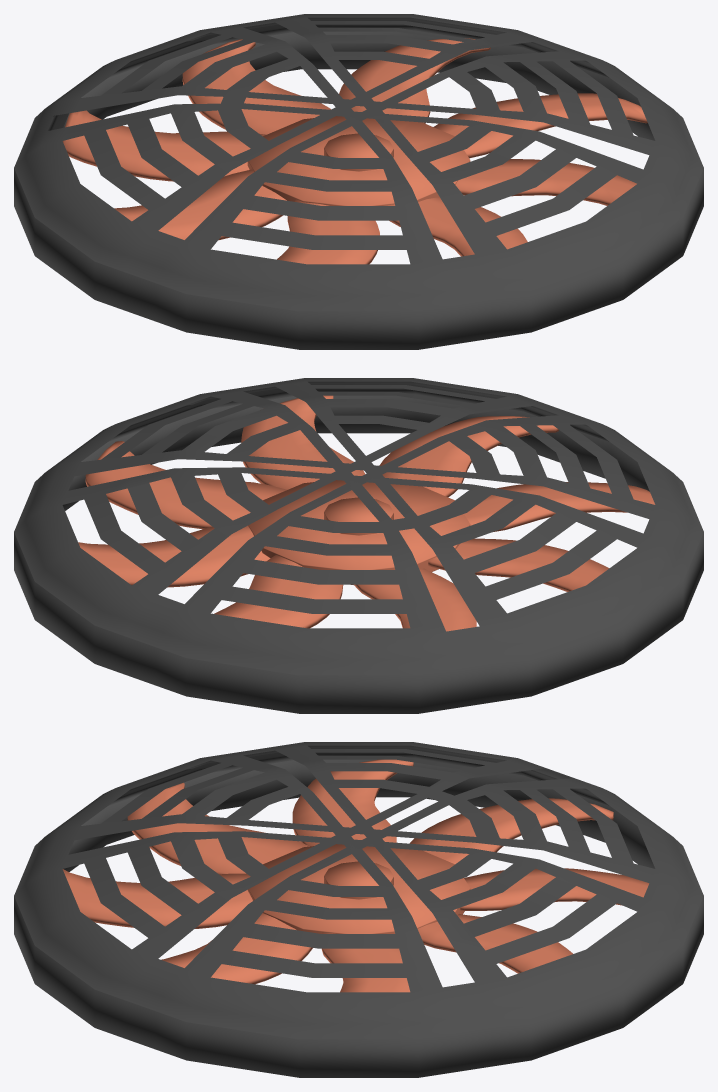
The model's file is AirVent_01.fbx.
The picture shows the model from 3 angles, top to bottom: view 1: azimuth 30°, elevation 25°; view 2: azimuth 150°, elevation 25°; view 3: azimuth 270°, elevation 25°; orthographic projection.
Visible parts, largest first — view 1: FanCover_01, Fanblade; view 2: FanCover_01, Fanblade; view 3: FanCover_01, Fanblade.
Boxes of the visible parts, x1,y1,x2,y2 form: FanCover_01: (14, 14, 703, 349); Fanblade: (62, 38, 647, 264); FanCover_01: (14, 378, 703, 713); Fanblade: (78, 395, 655, 631); FanCover_01: (14, 742, 703, 1077); Fanblade: (62, 759, 649, 992).
Bounding box in the file's own units: 611 × 96.41 × 620.
